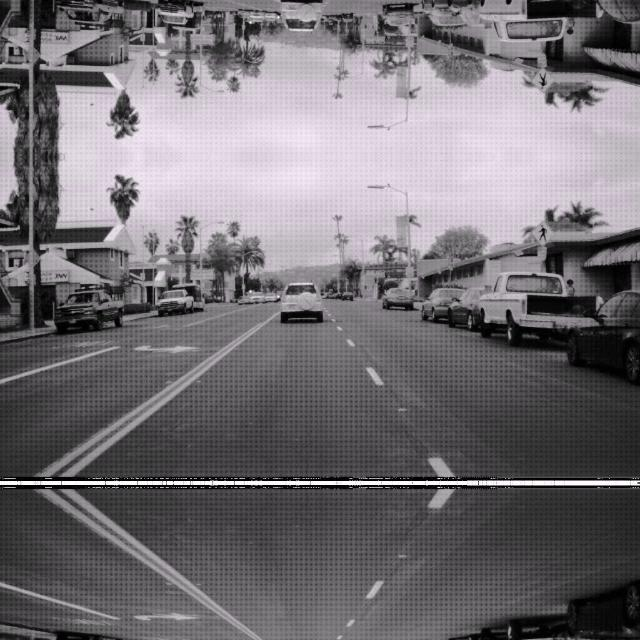pedestrianCrossing: (530, 218, 556, 244), (530, 68, 556, 94)
